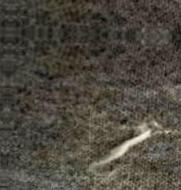snag: (82, 115, 156, 176)
